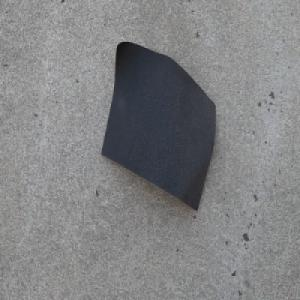PaintChip: (100, 40, 216, 211)
